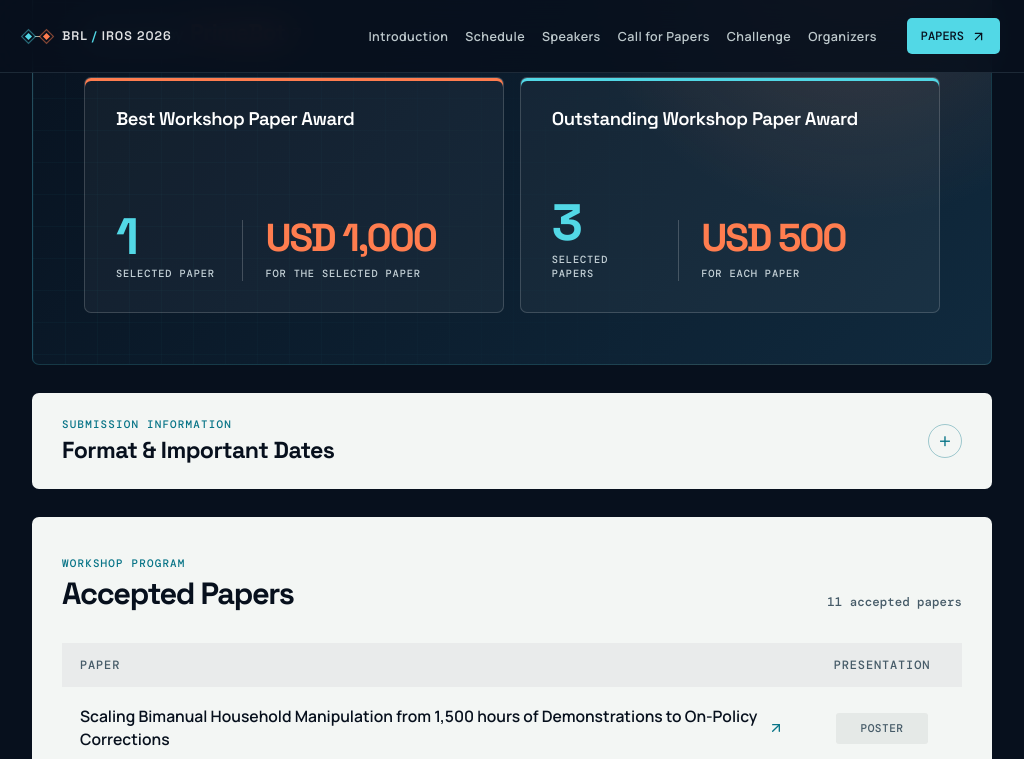
Test: workshop landing page › places awards before a shared submission-and-dates disclosure
The width and height of the screenshot is (1024, 759).
(page scrolled)
Step 1. Click the text "Submission information" → (147, 424), box [62,417,232,431]
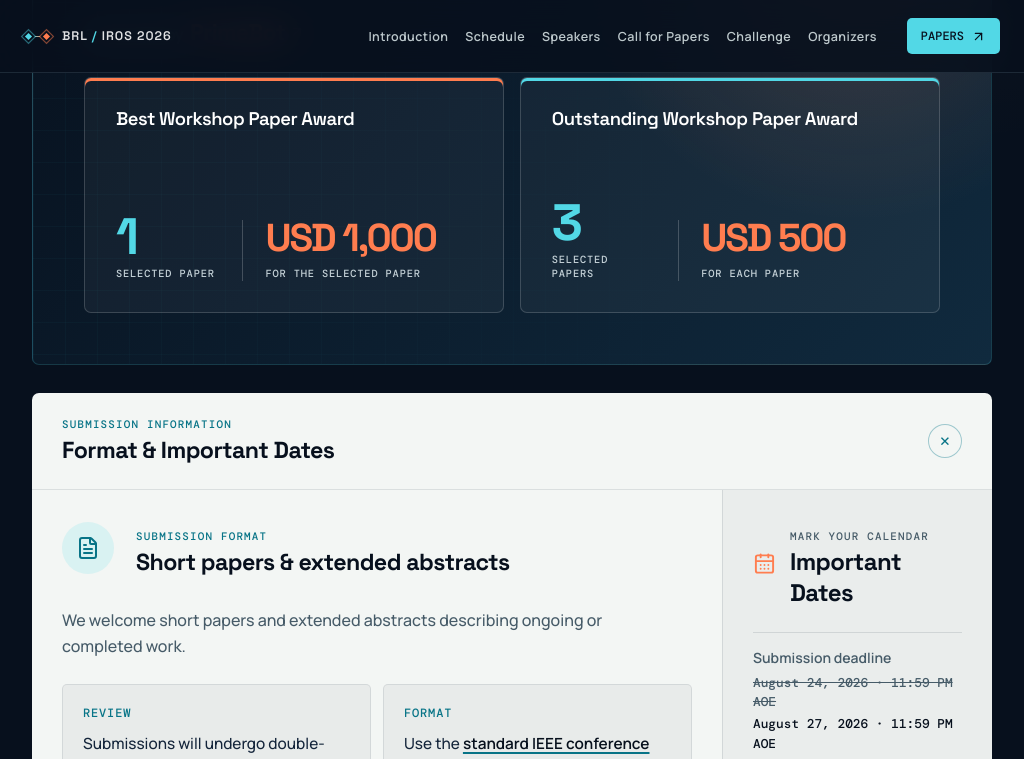
Check: the heading "Important Dates" is shown, box [790,546,901,608]
